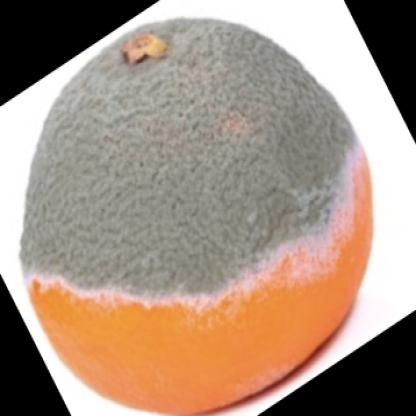rotten: (20, 17, 375, 416)
